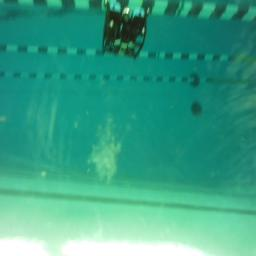front: (102, 2, 151, 61)
